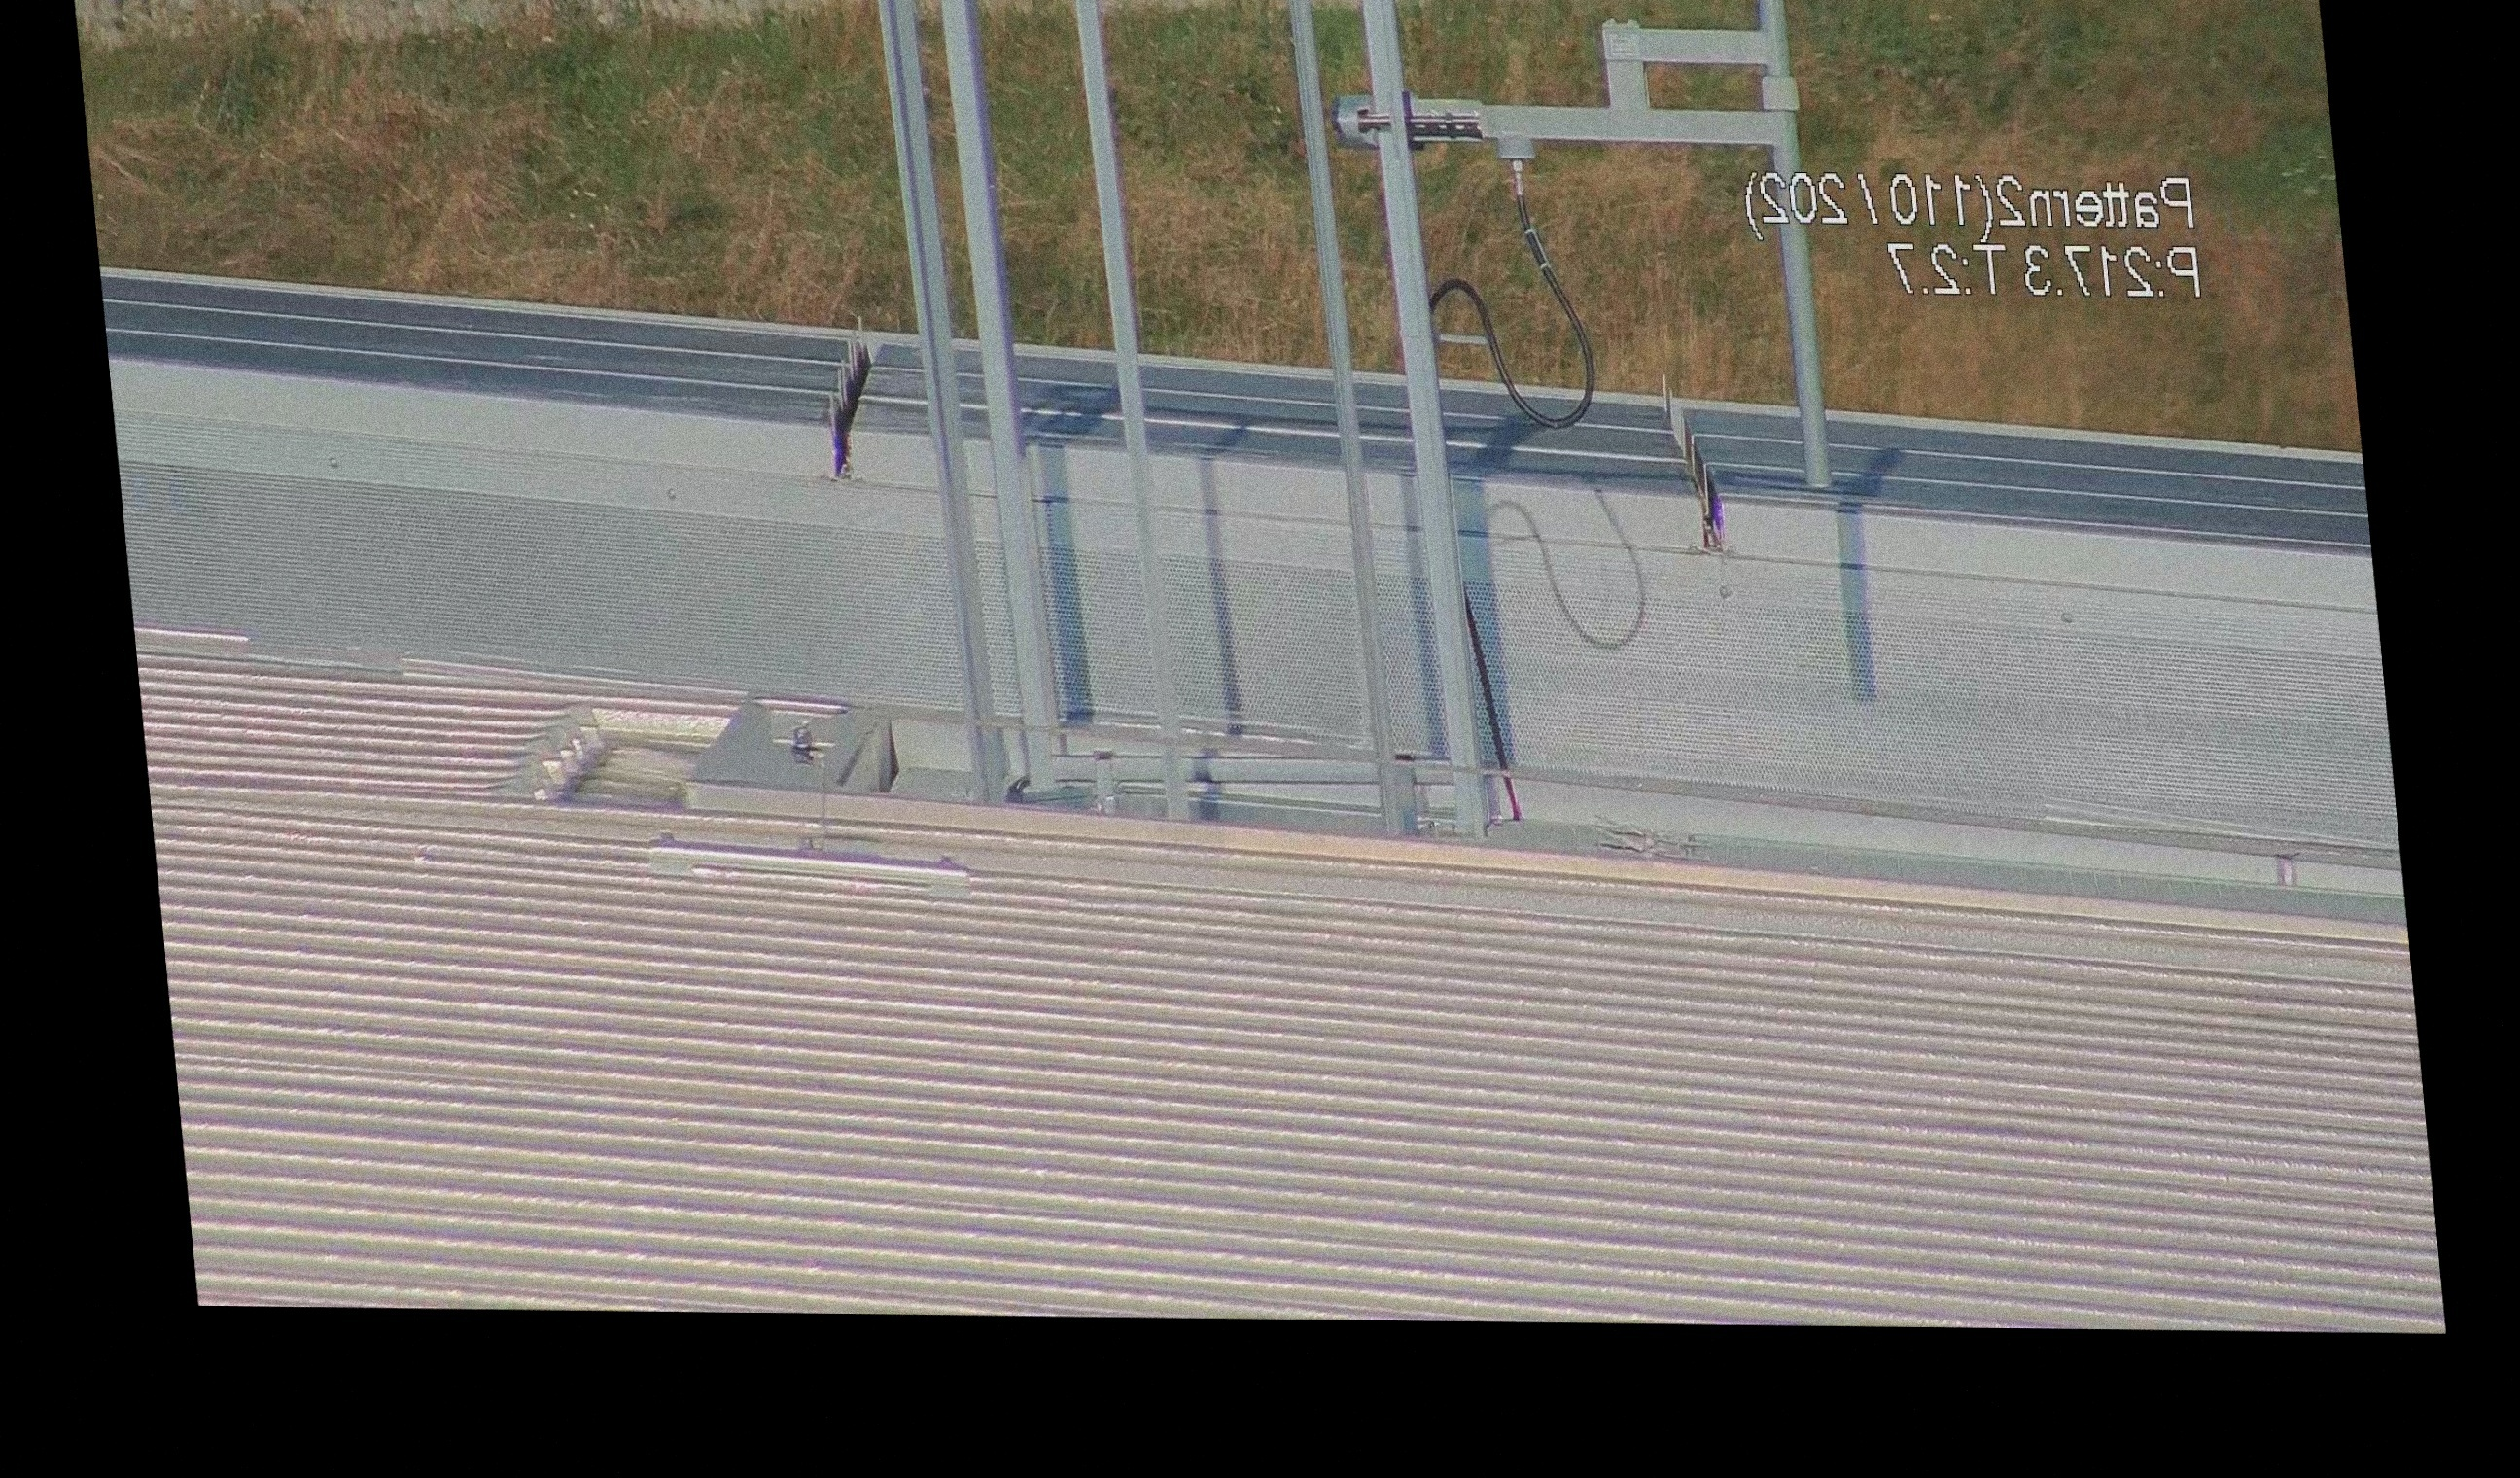Other: (800, 318, 897, 480)
